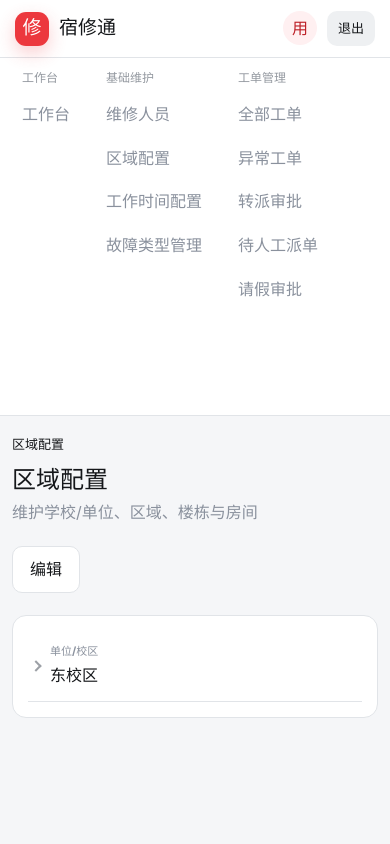
Test case: 区域配置页 › 添加弹窗名校验：空名称不提交接口
The width and height of the screenshot is (390, 844).
Click the button "编辑": click(46, 570) left=12, top=546, right=80, bottom=594
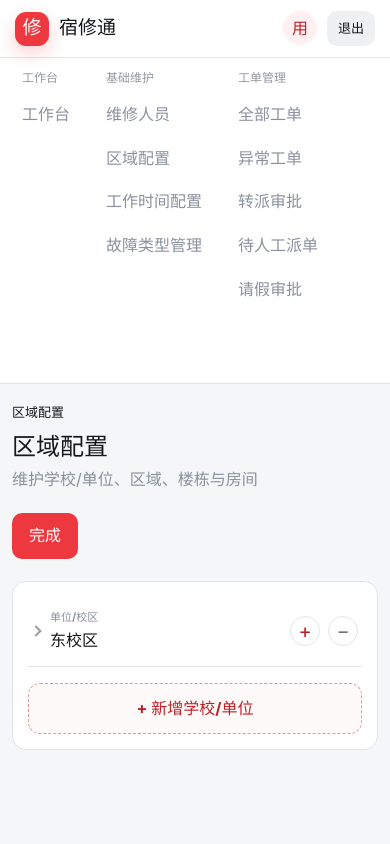
Click the button with class "add": click(305, 631) left=290, top=616, right=320, bottom=646
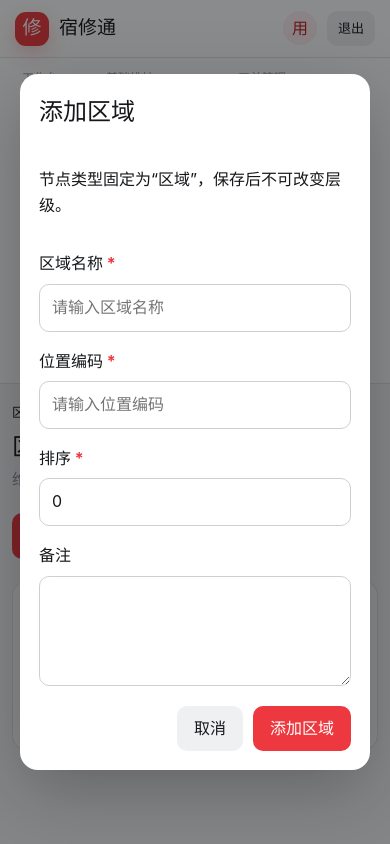
Click the button "添加区域": click(302, 728) left=253, top=706, right=351, bottom=751
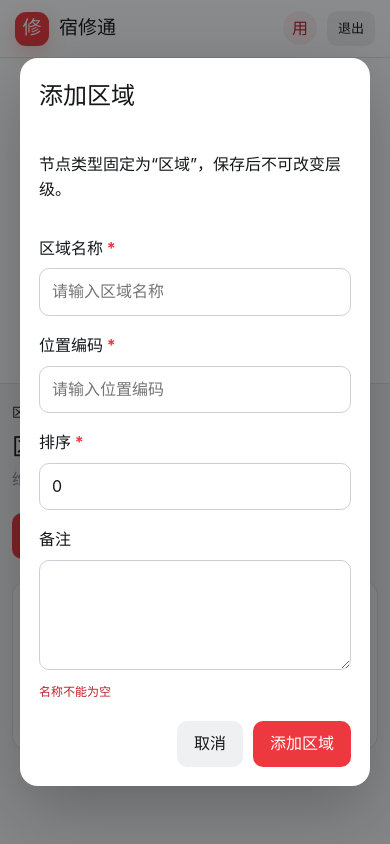
Check: the message with class "error" reads "名称不能为空", box left=39, top=684, right=111, bottom=699
